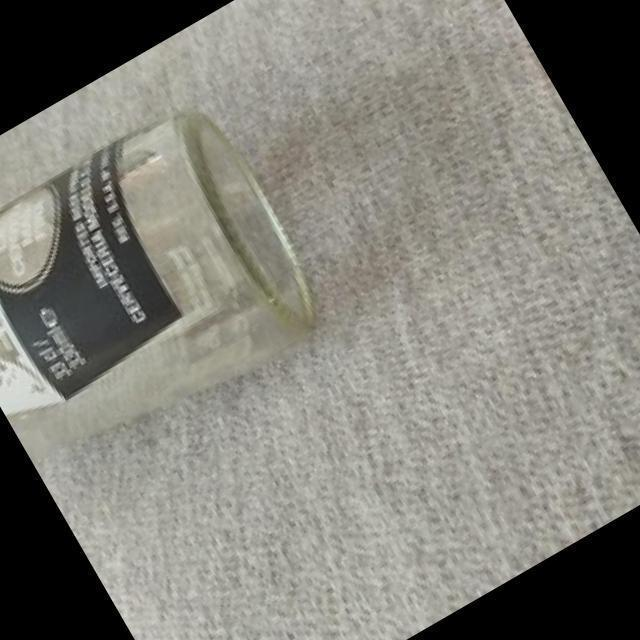Glass: (0, 110, 315, 457)
